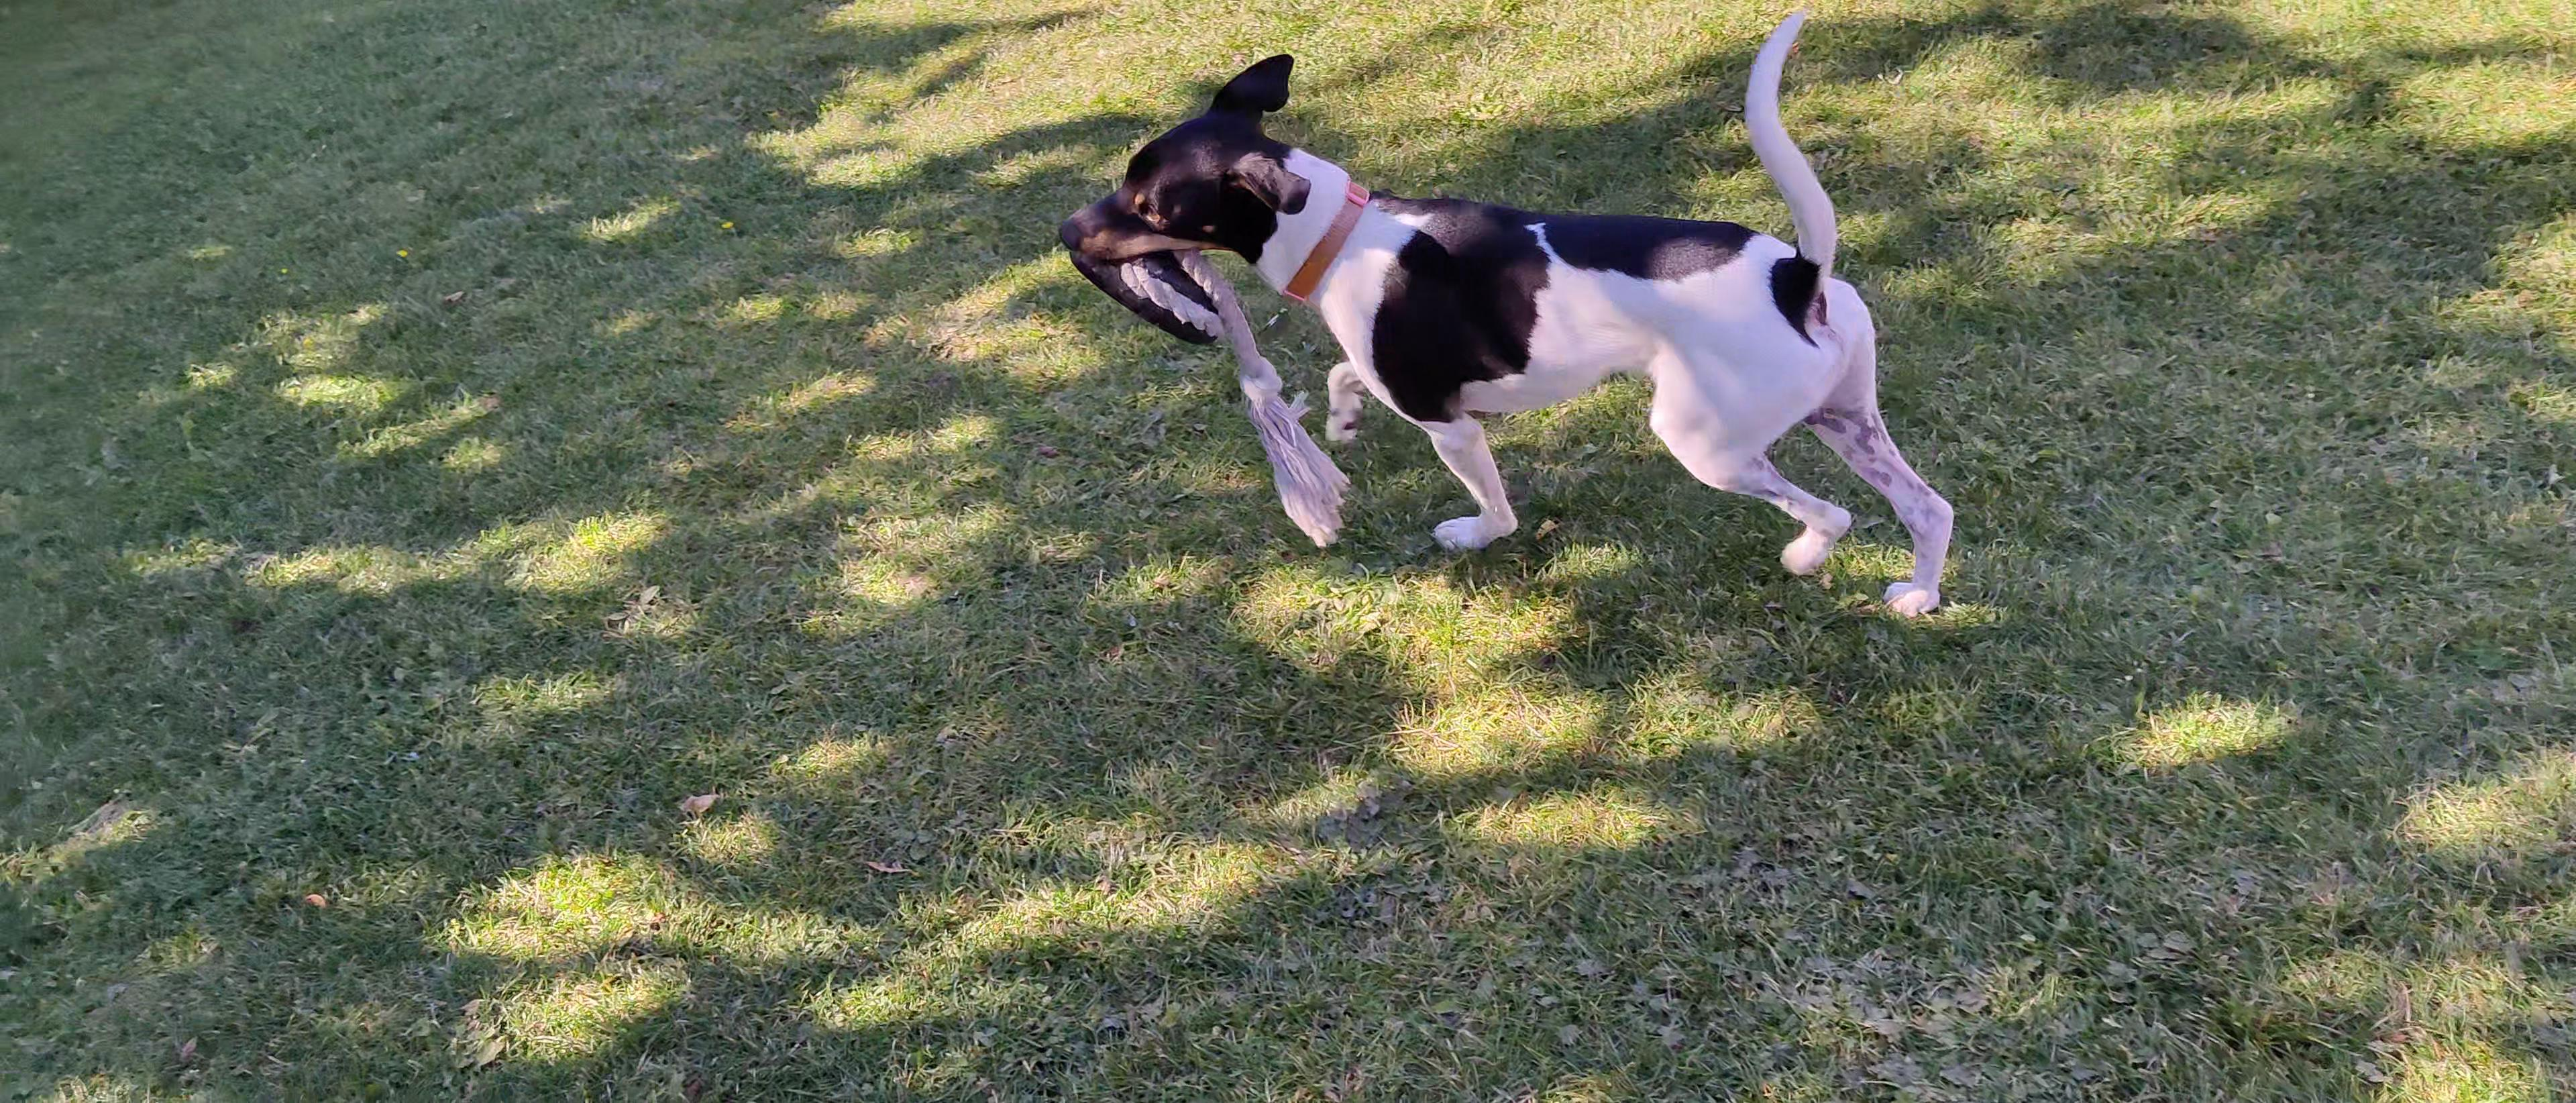Dog: (1048, 12, 1968, 603)
